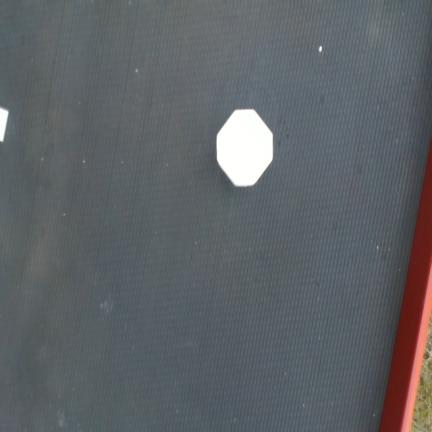Paralelepipedo: (0, 107, 9, 142)
Prisma_hexagonal: (217, 109, 273, 187)
